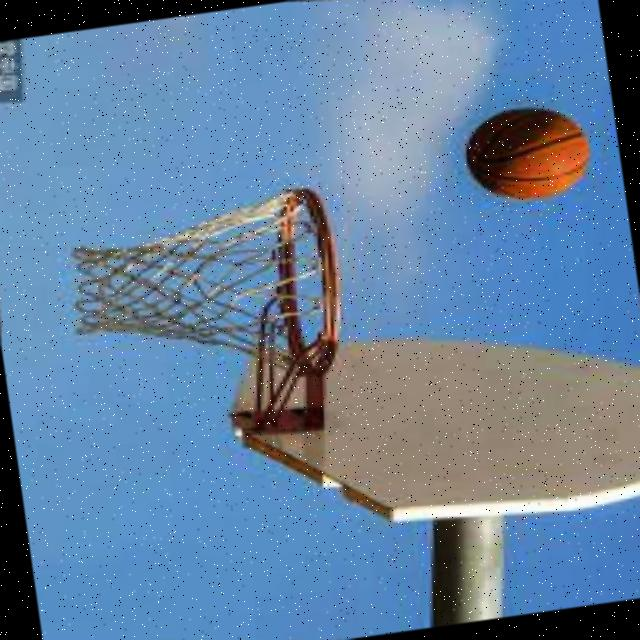ball: (458, 96, 598, 212)
hoop: (258, 174, 358, 396)
